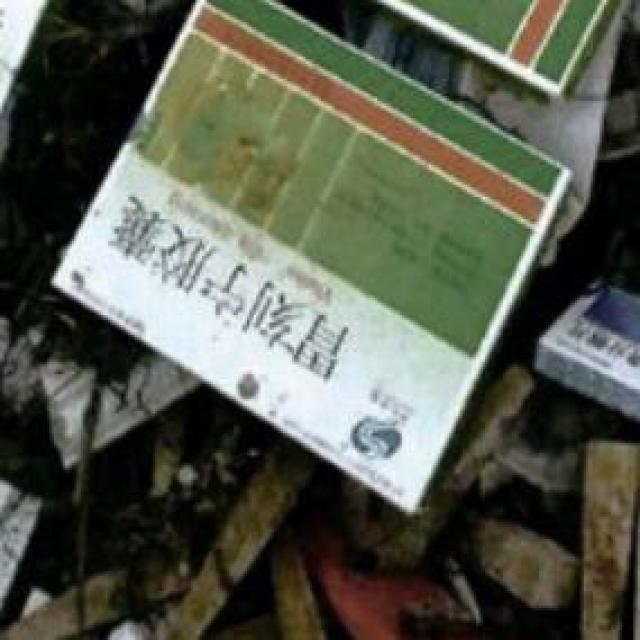-Recyclables - paper box-: (55, 5, 566, 510)
